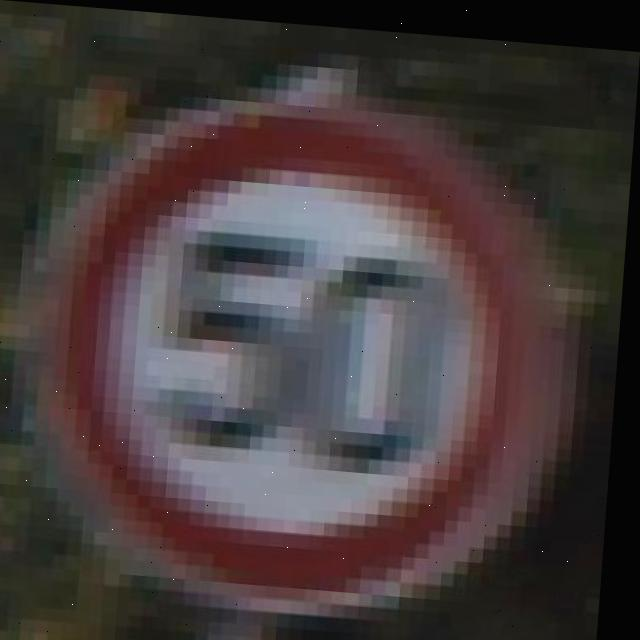Speed limit 50: (37, 72, 593, 613)
